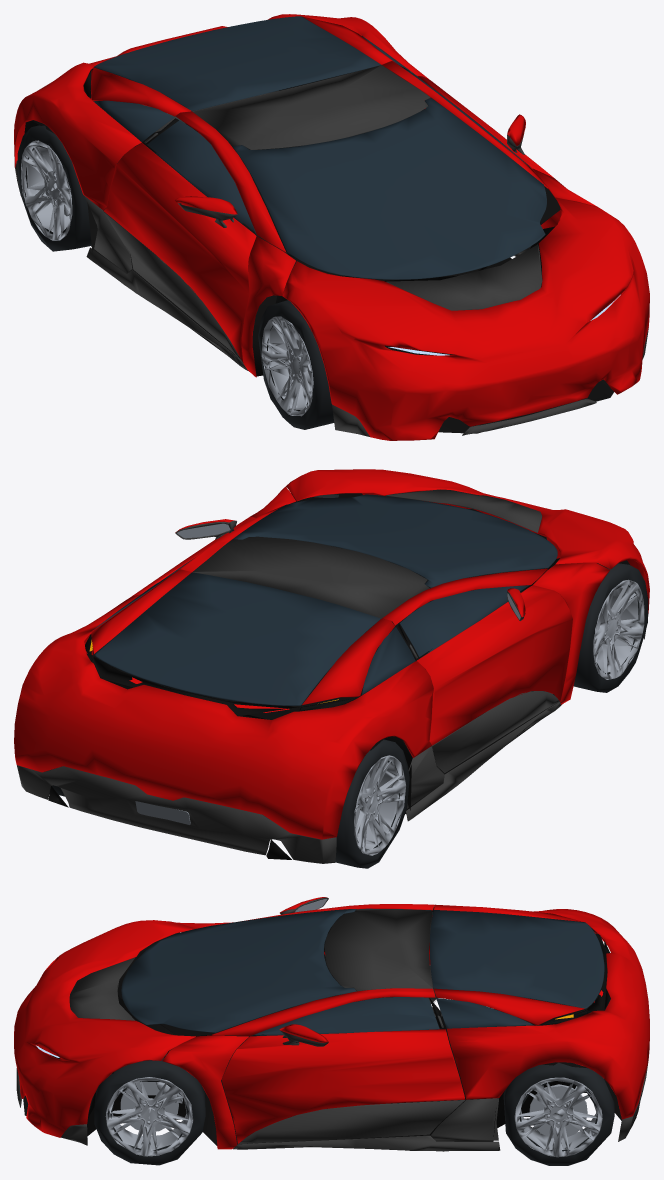
The model's file is sport-coupe-low.glb.
The picture shows the model from 3 angles, top to bottom: view 1: azimuth 30°, elevation 25°; view 2: azimuth 150°, elevation 25°; view 3: azimuth 270°, elevation 25°; orthographic projection. The views are drawn at different scales.
Visible parts, largest first — view 1: Body, WheelFrontR, WheelRearR; view 2: Body, WheelFrontR, WheelRearR; view 3: Body, WheelFrontL, WheelRearL.
Boxes of the visible parts, x1,y1,x2,y2 form: Body: (14, 14, 649, 440); WheelFrontR: (258, 300, 334, 429); WheelRearR: (17, 125, 91, 251); Body: (14, 469, 649, 863); WheelFrontR: (573, 563, 648, 692); WheelRearR: (335, 739, 409, 868); Body: (14, 897, 649, 1151); WheelFrontL: (94, 1054, 205, 1165); WheelRearL: (503, 1062, 614, 1165).
Size of the model in its own units: 2.34 by 1.15 by 4.35.
